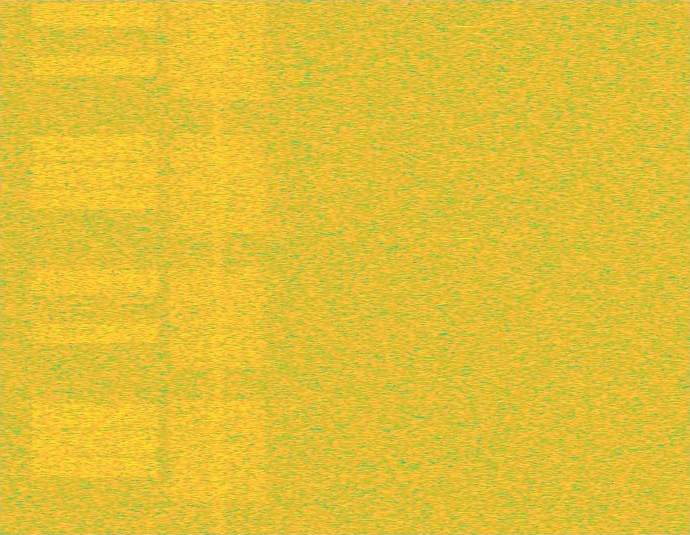5G: (166, 0, 270, 534)
DSSS: (211, 0, 225, 534)
LTE: (26, 0, 164, 534)
Radar: (458, 0, 472, 534)
